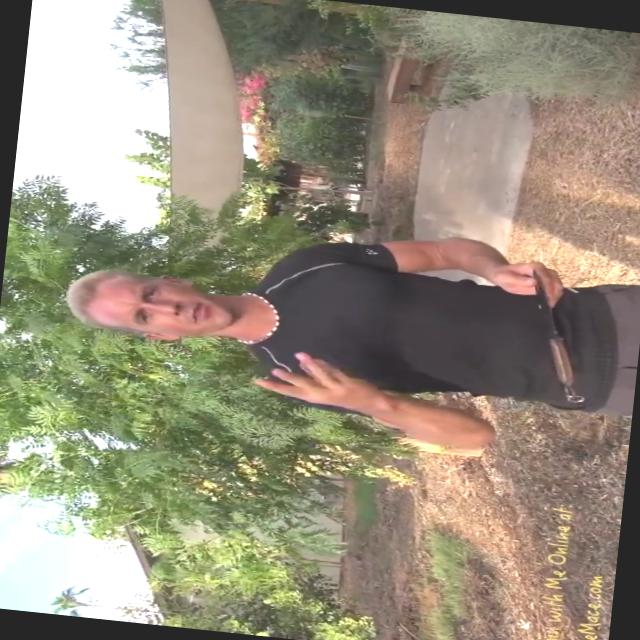knife: (504, 264, 616, 410)
